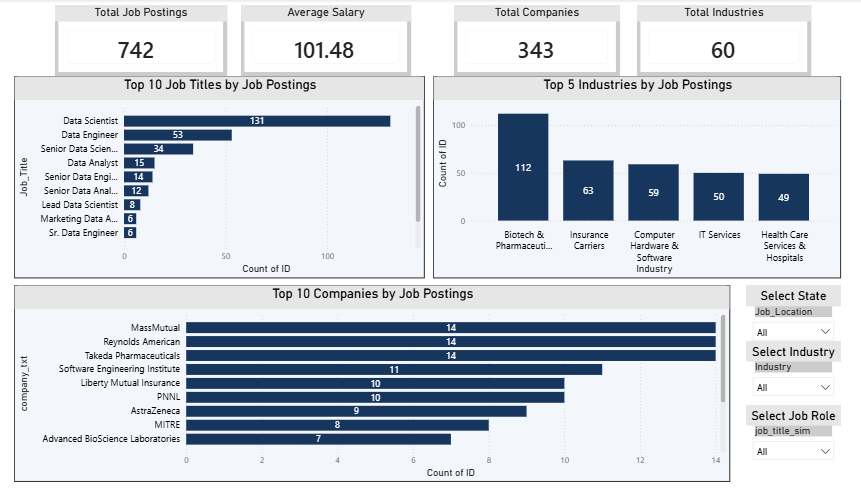

The dashboard page shown, as its layout file describes it:
{"tool":"powerbi","page":{"name":"Job Market Overview","canvas":[1280,720],"ordinal":0},"visuals":[{"type":"cardVisual","title":"Total Job Postings","fields":{"Data":["CountNonNull(Market.ID)"]},"box":[84.9,0,251.7,103.9],"z":0},{"type":"cardVisual","title":"Average Salary","fields":{"Data":["Avg(Market.Avg_SalaryK)"]},"box":[362.9,0,248.8,103.9],"z":1000},{"type":"cardVisual","title":"Total Companies","fields":{"Data":["Count(Market.company_txt)"]},"box":[639.5,0,242.9,103.9],"z":2000},{"type":"cardVisual","title":"Total Industries","fields":{"Data":["Count(Market.Industry)"]},"box":[905.9,0,254.6,103.9],"z":3000},{"type":"clusteredBarChart","title":"Top 10 Job Titles by Job Postings","fields":{"Category":["Market.Job_Title"],"Y":["CountNonNull(Market.ID)"]},"box":[26.3,112.7,601.5,295.6],"z":4000},{"type":"clusteredColumnChart","title":"Top 5 Industries by Job Postings","fields":{"Y":["CountNonNull(Market.ID)"],"Category":["Market.Industry"]},"box":[639.5,112.7,597.1,295.6],"z":5000},{"type":"clusteredBarChart","title":"Top 10 Companies by Job Postings","fields":{"Y":["CountNonNull(Market.ID)"],"Category":["Market.company_txt"]},"box":[26.3,418.5,1047.8,288.3],"z":6000},{"type":"slicer","title":"Select State","fields":{"Values":["Market.Job_Location"]},"box":[1097.6,418.5,139,93.7],"z":7000},{"type":"slicer","title":"Select Industry","fields":{"Values":["Market.Industry"]},"box":[1097.6,519.5,139,93.7],"z":8000},{"type":"slicer","title":"Select Job Role","fields":{"Values":["Market.job_title_sim"]},"box":[1097.6,613.2,139,93.7],"z":9000}]}

Visuals, with their boxes in screenshot pixels (x1, y1, x2, y2), scaled from the page's 1280x720 canvas onto the 861x491 screenshot:
"Total Job Postings" cardVisual: [57,0,226,71]
"Average Salary" cardVisual: [244,0,411,71]
"Total Companies" cardVisual: [430,0,594,71]
"Total Industries" cardVisual: [609,0,781,71]
"Top 10 Job Titles by Job Postings" clusteredBarChart: [18,77,422,278]
"Top 5 Industries by Job Postings" clusteredColumnChart: [430,77,832,278]
"Top 10 Companies by Job Postings" clusteredBarChart: [18,285,723,482]
"Select State" slicer: [738,285,832,349]
"Select Industry" slicer: [738,354,832,418]
"Select Job Role" slicer: [738,418,832,482]
